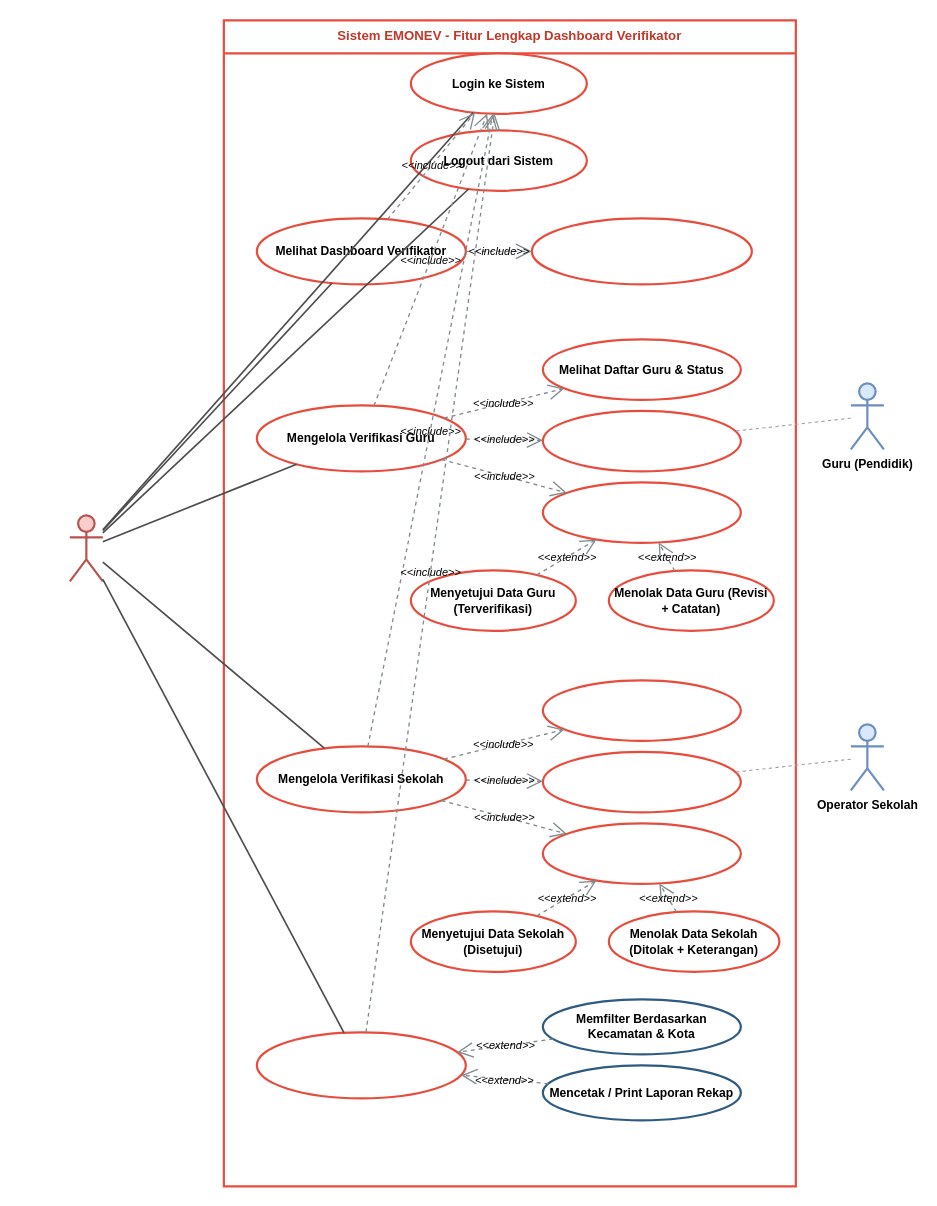
The diagram is 937 pixels wide and 1206 high, and some of its shapes have lost their labels. Here are the shapes that lost their labels. From the top down, the centre of each, then its label:
At (x=641, y=251): "Memantau Ringkasan Statistik (Sekolah & Guru)".
At (x=641, y=440): "Melihat Detail Profil & Kompetensi Guru".
At (x=641, y=512): "Memproses Status Verifikasi Guru".
At (x=85, y=548): "Verifikator (Dinas/BTKI)".
At (x=641, y=710): "Melihat Daftar Sekolah & Status".
At (x=641, y=781): "Melihat Detail Profil & Sarpras Sekolah".
At (x=641, y=853): "Memproses Status Verifikasi Sekolah".
At (x=360, y=1065): "Memantau Rekap Data Guru (Monev)".
